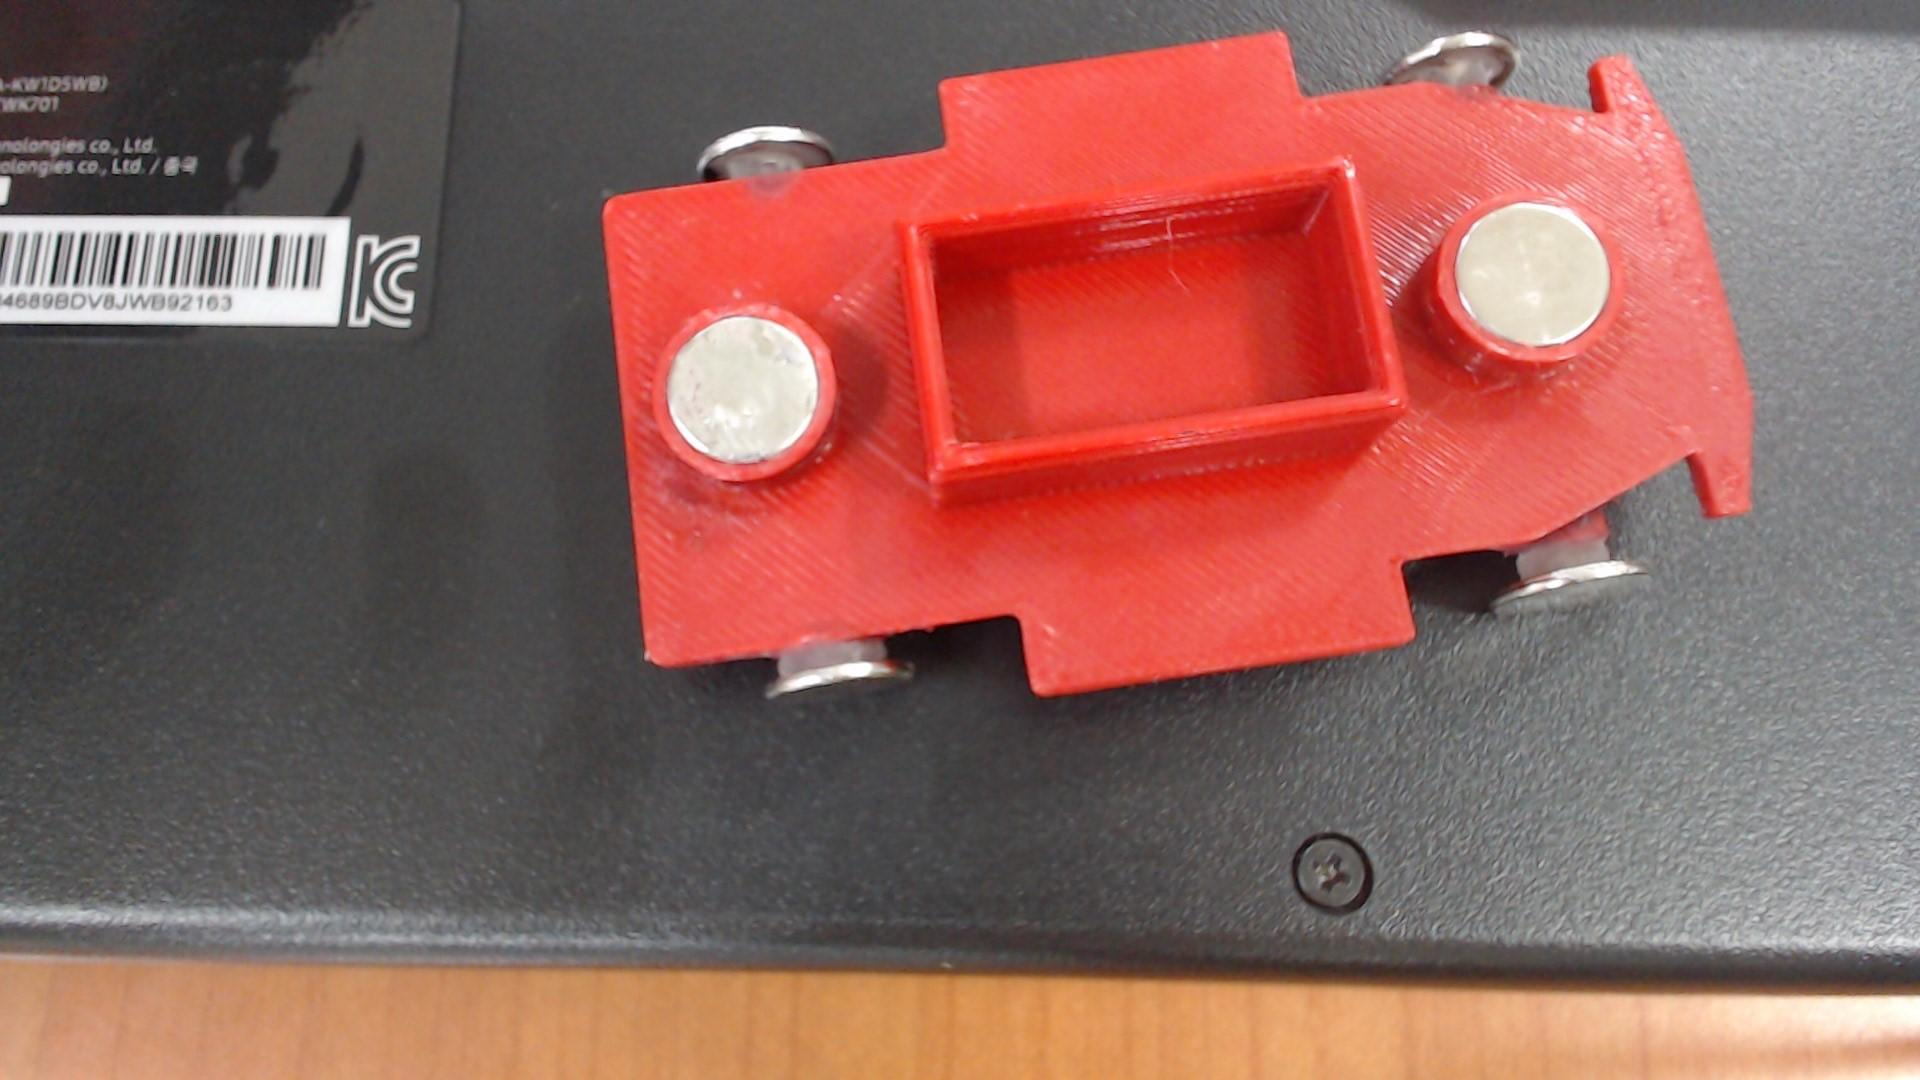lower_ok: (887, 135, 1443, 534)
